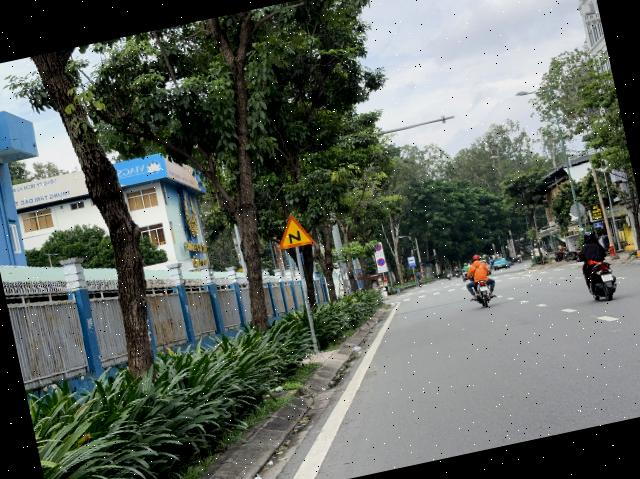nhieu-cho-ngoat-nguy-hiem-lien-tiep: (272, 211, 314, 251)
